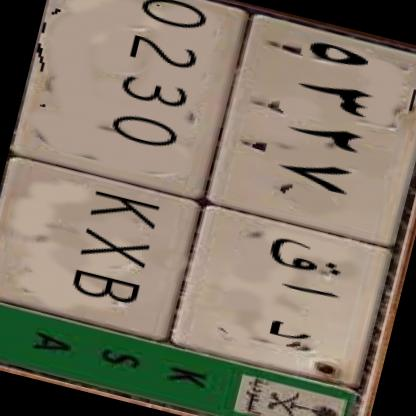english: (0, 0, 257, 345)
